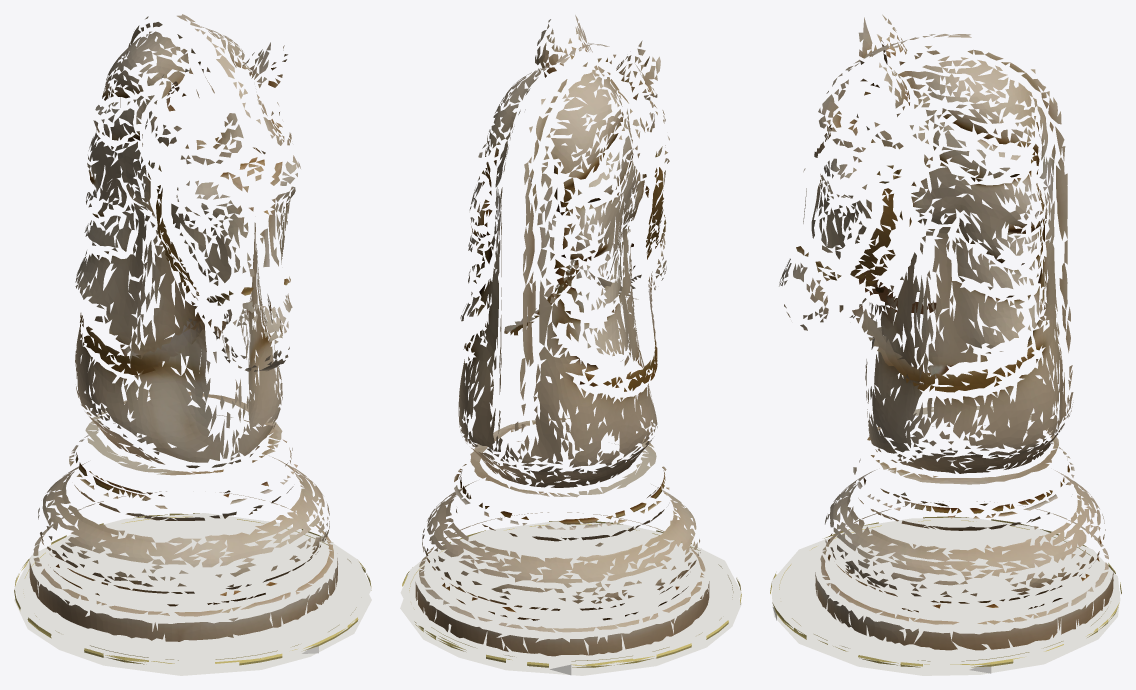
Rendered from knight-classic-cavallo-10k.glb.
3 views of the same model, side by side, from view 1: azimuth 30°, elevation 25°; view 2: azimuth 150°, elevation 25°; view 3: azimuth 270°, elevation 25° (orthographic). The views are drawn at different scales.
Visible parts, largest first — view 1: tmp6uqtynbf.ply, FactionPedestal, FactionTrimRing; view 2: tmp6uqtynbf.ply, FactionPedestal, FactionTrimRing; view 3: tmp6uqtynbf.ply, FactionPedestal, FactionTrimRing.
Boxes of the visible parts, x1,y1,x2,y2 form: tmp6uqtynbf.ply: (29, 14, 337, 641); FactionPedestal: (14, 513, 371, 675); FactionTrimRing: (14, 513, 371, 665); tmp6uqtynbf.ply: (415, 15, 709, 656); FactionPedestal: (400, 520, 741, 675); FactionTrimRing: (402, 521, 741, 667); tmp6uqtynbf.ply: (779, 14, 1113, 650); FactionPedestal: (771, 517, 1120, 675); FactionTrimRing: (770, 516, 1121, 667).
Bounding box in the file's own units: 0.7409 × 1.33 × 0.744.
Materials: 3 (1 with a texture image).
